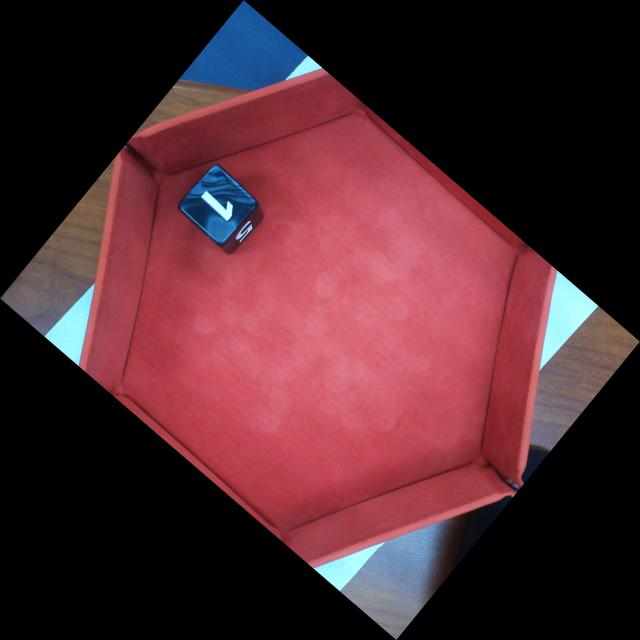dice: (178, 165, 258, 245)
